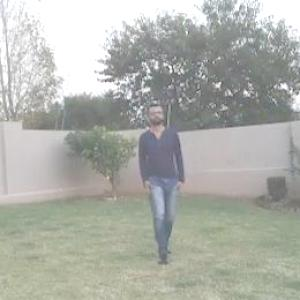follow: (134, 97, 190, 262)
